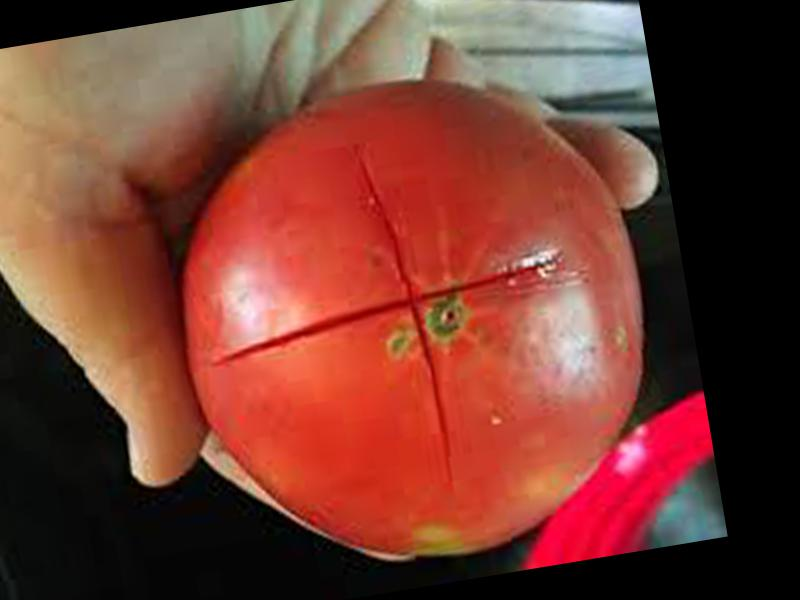Tomato: (145, 46, 681, 591)
